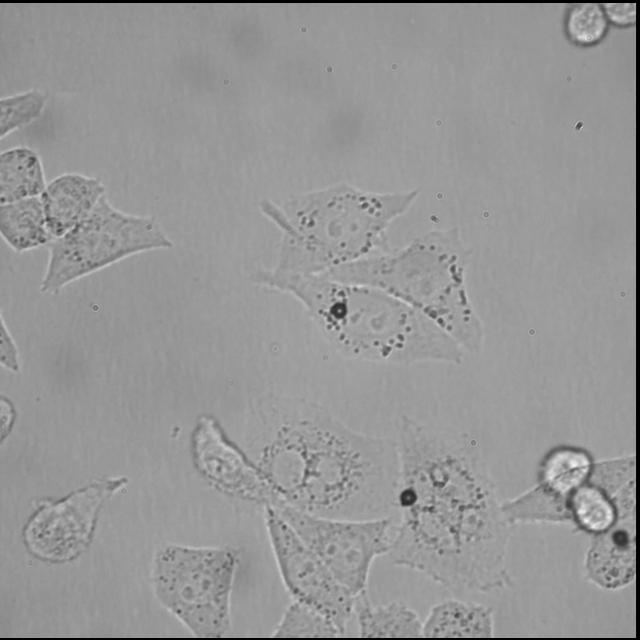microbeads: (397, 487, 421, 508), (329, 301, 349, 319)
